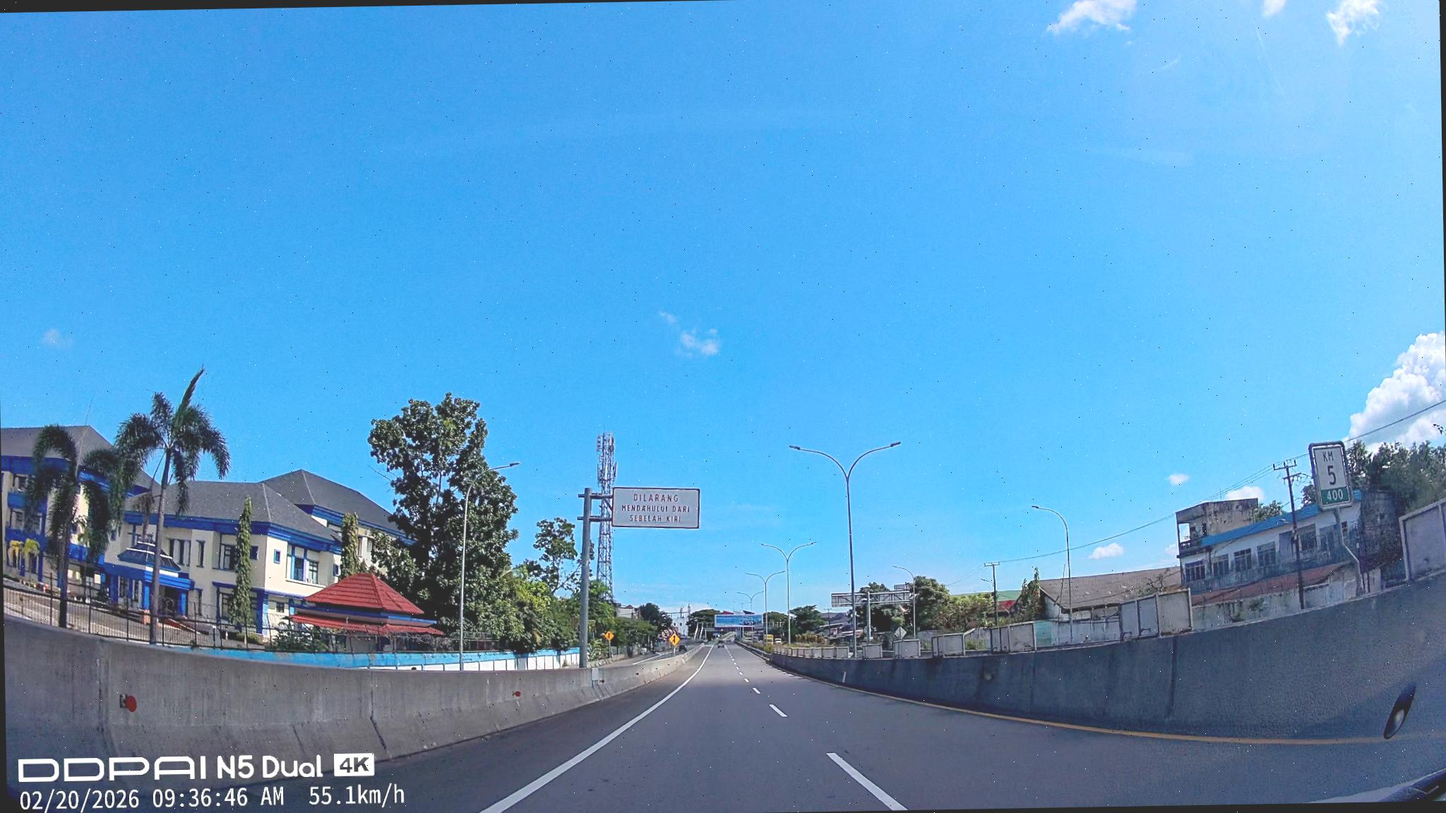rambu_teks: (610, 484, 701, 531)
